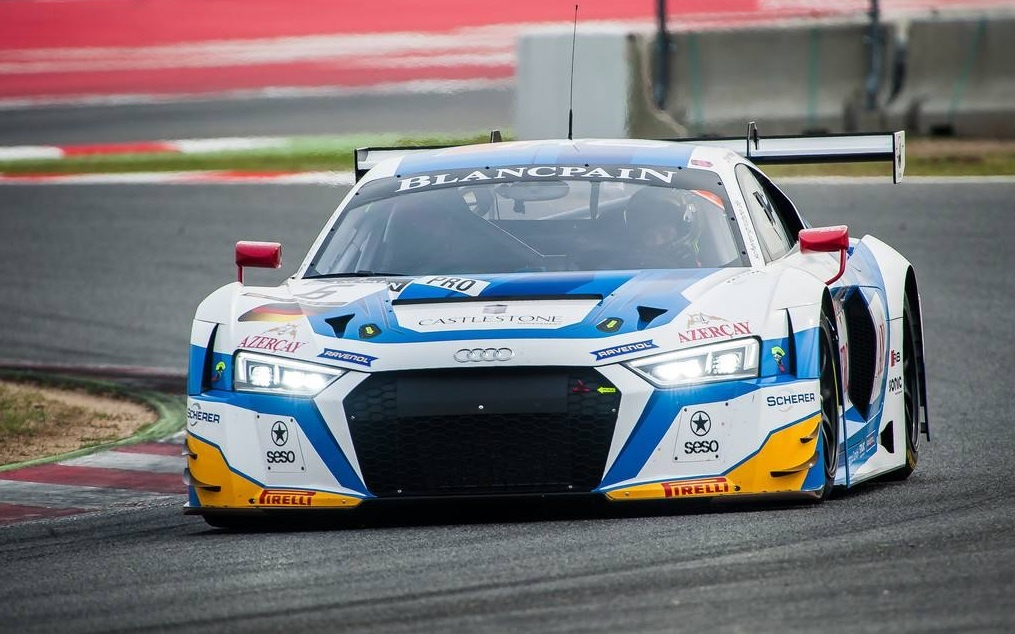racing car: (172, 110, 942, 527)
